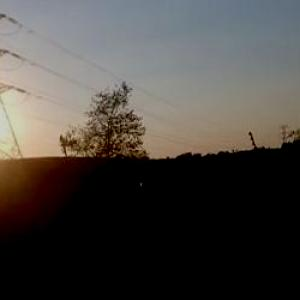follow: (134, 168, 200, 299)
